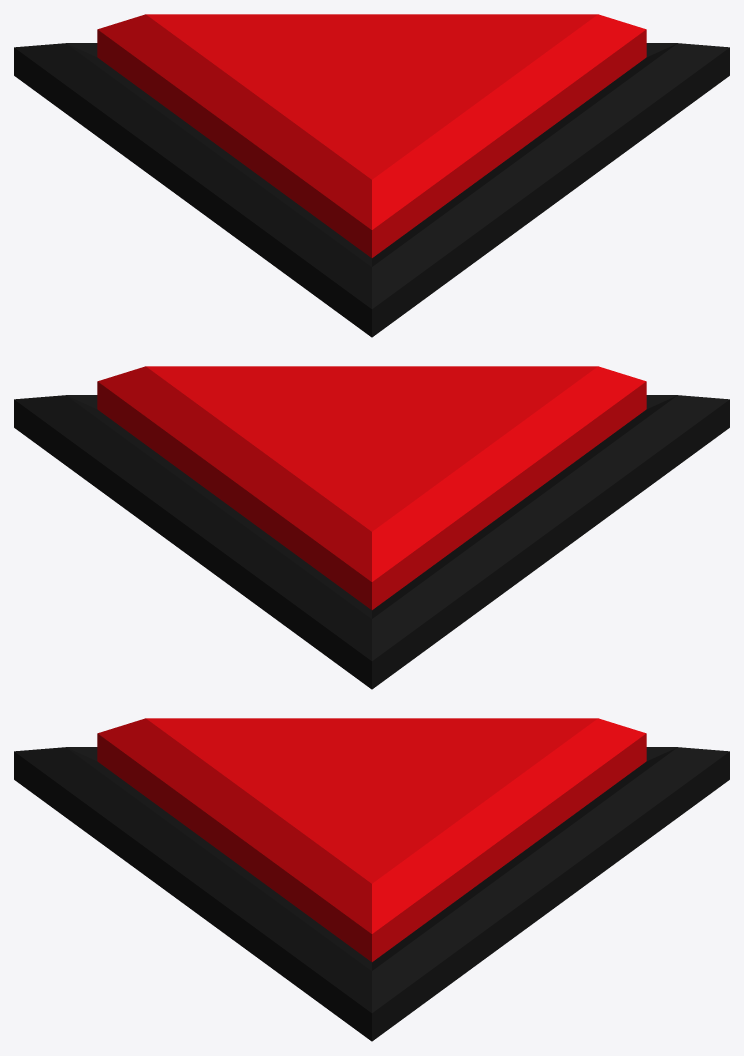
File: Button.fbx
3 renders of one model, top to bottom at view 1: azimuth 30°, elevation 25°; view 2: azimuth 150°, elevation 25°; view 3: azimuth 270°, elevation 25°, orthographic.
Parts seen in each view (by area): view 1: RightButton, RightButtonBase; view 2: RightButton, RightButtonBase; view 3: RightButton, RightButtonBase.
Part boxes in pixels (x1,y1,x2,y2): RightButton: (97, 14, 646, 257); RightButtonBase: (14, 43, 729, 337); RightButton: (97, 366, 646, 609); RightButtonBase: (14, 395, 729, 689); RightButton: (97, 718, 646, 961); RightButtonBase: (14, 747, 729, 1041).
Size of the model in its own units: 4.99 by 0.8305 by 5.76.
